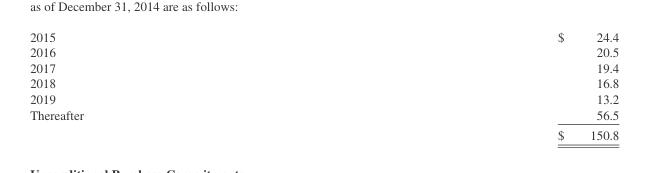table: (29, 29, 618, 141)
table column: (319, 29, 618, 141), (29, 29, 319, 141)
table row: (29, 106, 618, 124), (29, 124, 618, 141), (29, 59, 618, 75), (29, 90, 618, 106), (29, 29, 618, 44), (29, 44, 618, 59), (29, 75, 618, 90)
